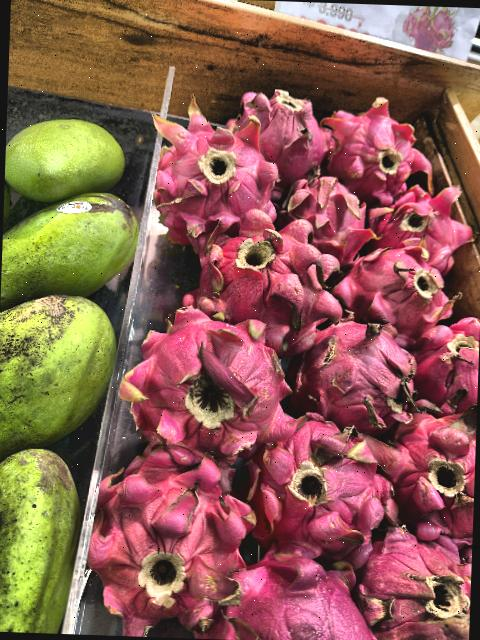buah-naga-matang: (91, 442, 250, 630), (128, 310, 284, 454), (246, 413, 397, 549), (188, 219, 346, 341), (146, 103, 289, 233), (346, 508, 473, 640), (204, 553, 377, 640), (292, 314, 412, 428), (322, 86, 434, 190), (336, 242, 451, 340), (382, 406, 477, 524), (376, 182, 480, 265), (285, 170, 383, 256), (244, 79, 332, 172), (412, 314, 480, 408)
